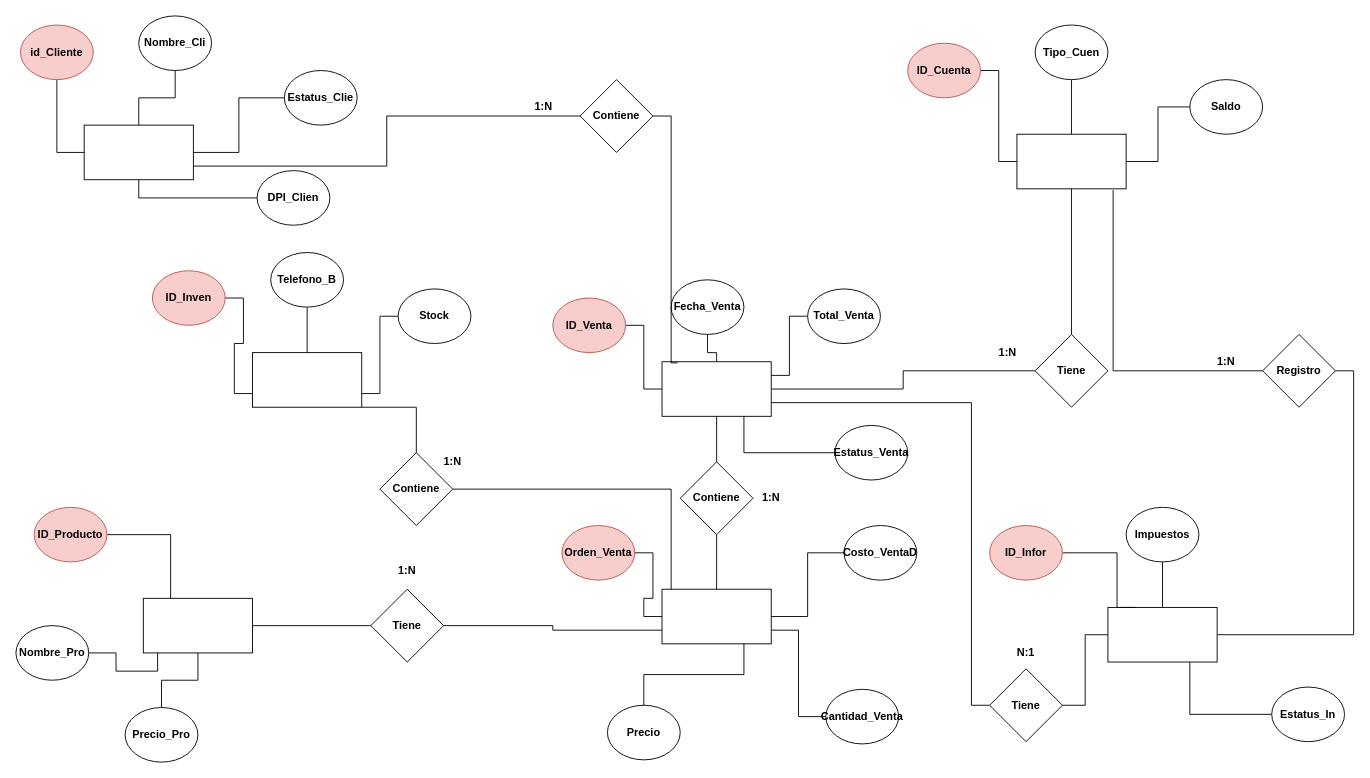
This 1370x778 diagram has some shape labels left out. The centre of each missing label's shape, as x and y in pixels:
Clientes: point 138,152
Cuenteas corrientes: point 1071,161
Inventarios: point 307,379
Modulo de Informes: point 1162,634
Productos: point 197,625
Venta Detalle: point 716,616
Venta Encabezado: point 716,388
